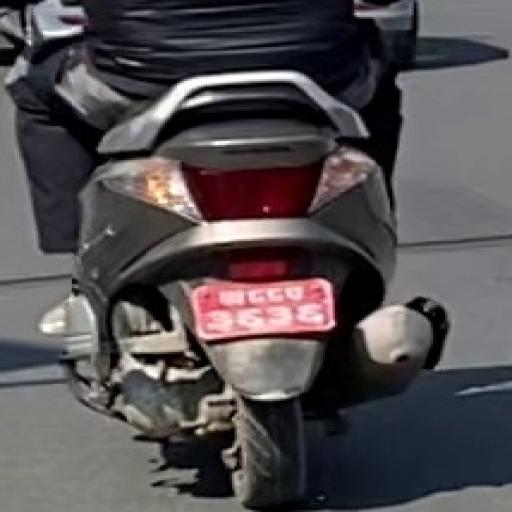license_plate: (180, 277, 343, 343)
